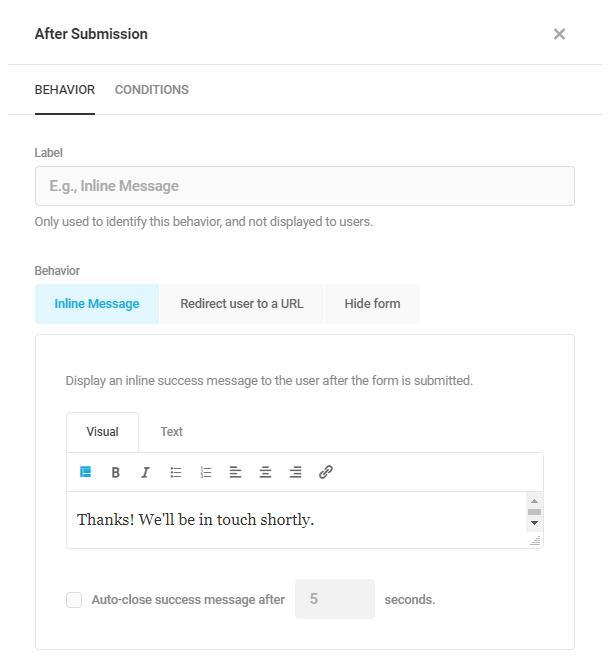button: (164, 286, 327, 326), (37, 283, 161, 326), (327, 285, 422, 324), (67, 412, 140, 453)
checkbox: (69, 593, 85, 609)
icon: (109, 464, 129, 489), (317, 462, 337, 486), (254, 462, 276, 483), (228, 462, 246, 486), (288, 462, 307, 484), (196, 462, 214, 485), (136, 466, 157, 485), (77, 462, 94, 483), (552, 26, 569, 45), (168, 466, 186, 483)
input: (36, 167, 577, 207), (292, 582, 379, 620)
label: (93, 594, 288, 616), (384, 592, 437, 611), (34, 264, 83, 281), (32, 147, 65, 162)
